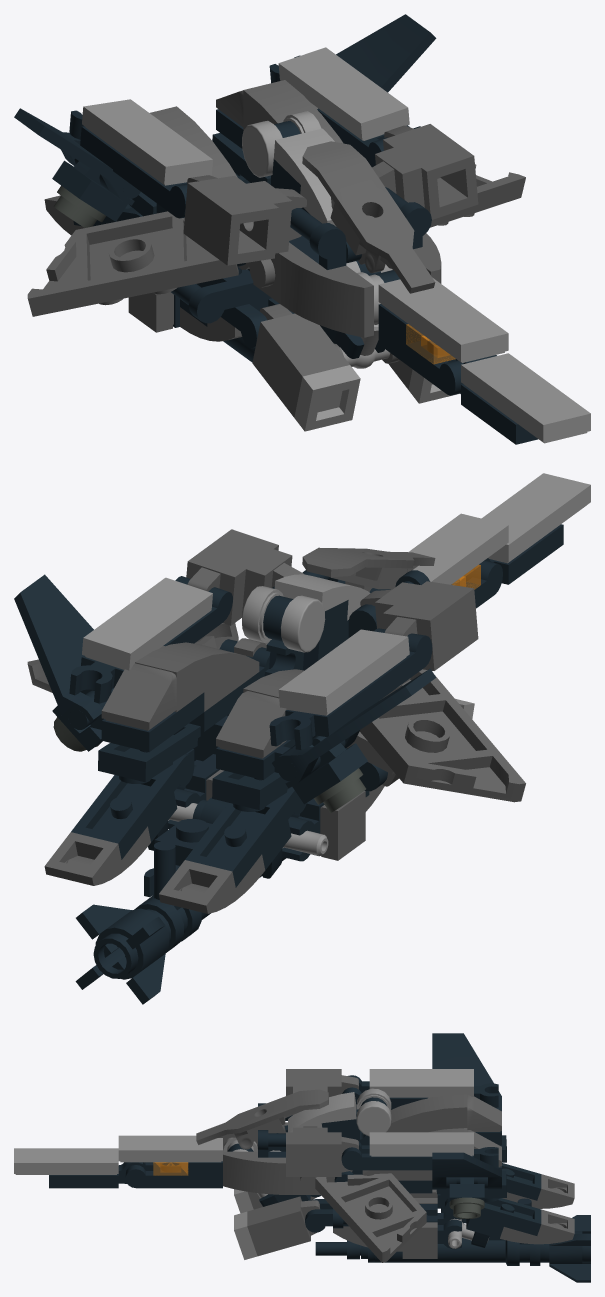
File: mvf-03p-sidewinder.dae
The picture shows the model from 3 angles, top to bottom: view 1: azimuth 30°, elevation 25°; view 2: azimuth 150°, elevation 25°; view 3: azimuth 270°, elevation 25°; orthographic projection. The views are drawn at different scales.
Size of the model in its own units: 210 by 331 by 114.
